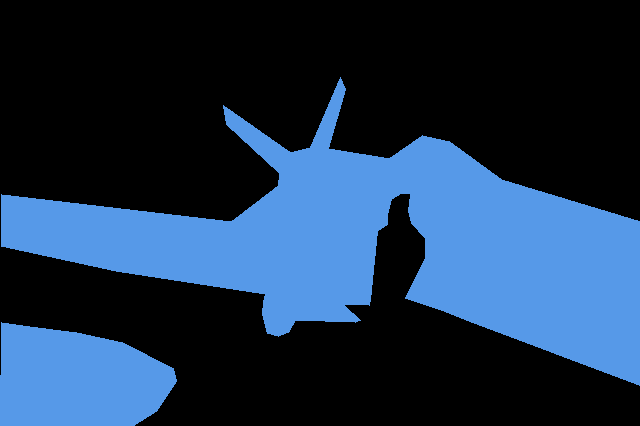Airplane: (1, 77, 640, 386), (0, 322, 176, 426)
